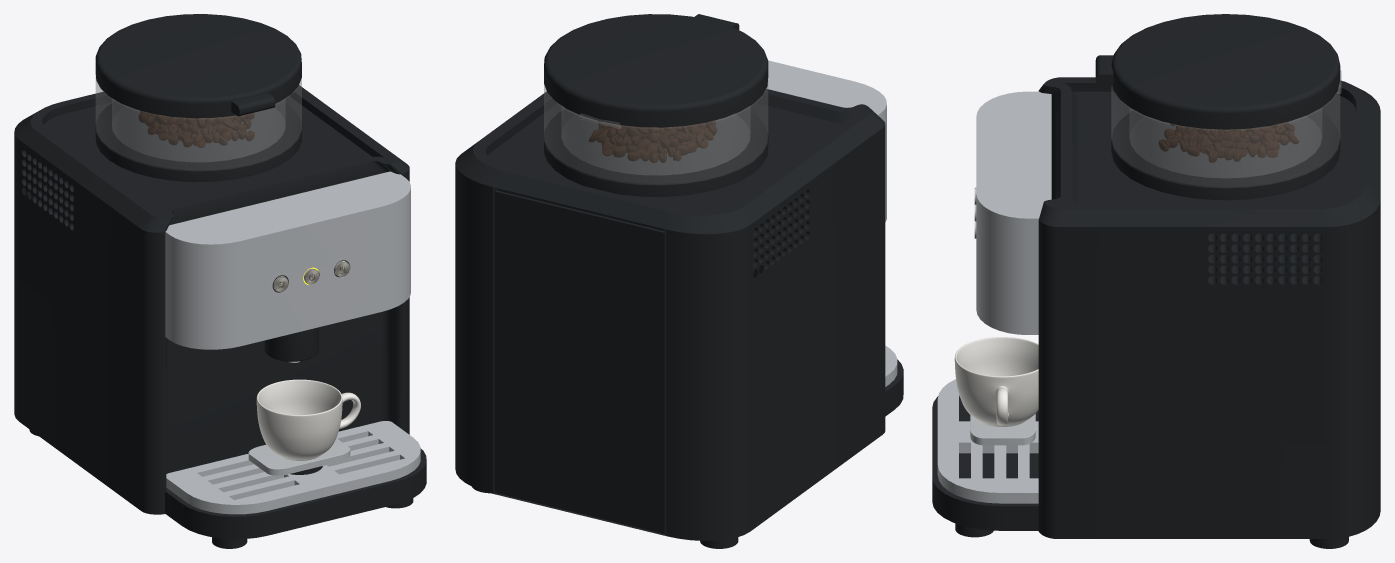
File: coffee_machine.glb
3 renders of one model, left to right at view 1: azimuth 30°, elevation 25°; view 2: azimuth 150°, elevation 25°; view 3: azimuth 270°, elevation 25°, orthographic. The views are drawn at different scales.
Parts seen in each view (by area): view 1: body, HopperLid, Hopper, coffeeCup; view 2: body, HopperLid, Hopper; view 3: body, HopperLid, Hopper, coffeeCup.
Part boxes in pixels (x1,y1,x2,y2): body: [14, 85, 426, 548]; HopperLid: [95, 14, 301, 118]; Hopper: [96, 79, 301, 170]; coffeeCup: [256, 379, 360, 460]; body: [455, 60, 903, 548]; HopperLid: [544, 14, 768, 127]; Hopper: [544, 85, 767, 184]; body: [932, 77, 1380, 548]; HopperLid: [1095, 14, 1340, 129]; Hopper: [1111, 70, 1341, 187]; coffeeCup: [954, 337, 1038, 426].
Bounding box in the file's own units: 2.6 × 3.57 × 3.43.
Materials: 10 (1 with a texture image).
